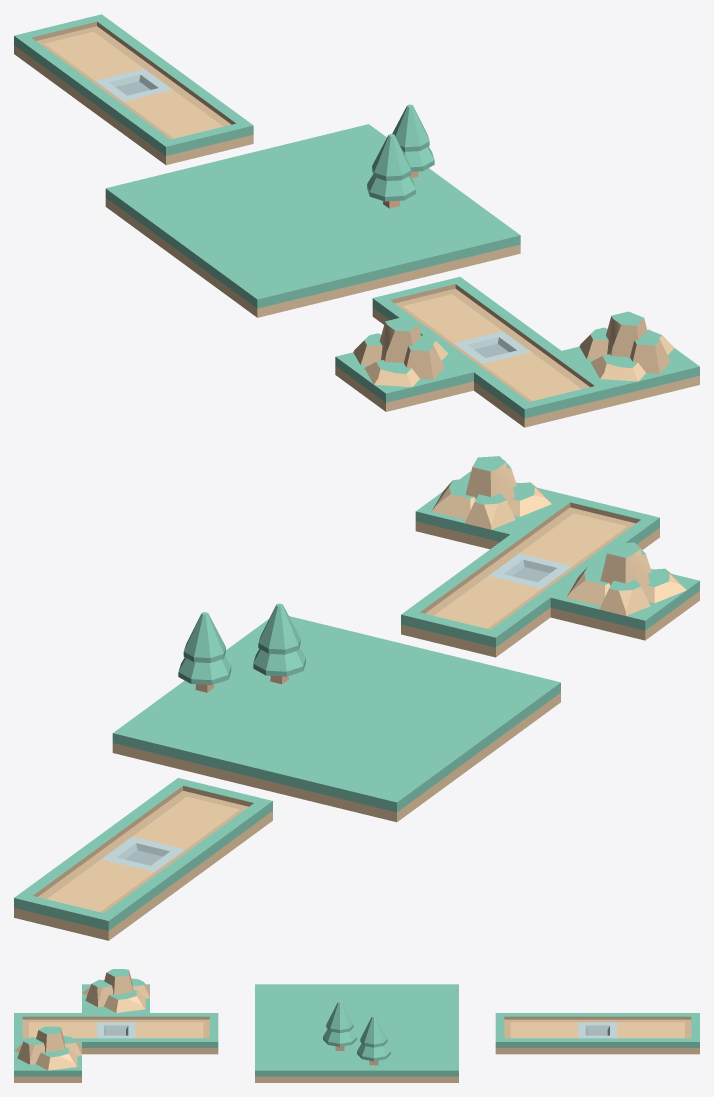
File: level01_geo.glb
The picture shows the model from 3 angles, top to bottom: view 1: azimuth 30°, elevation 25°; view 2: azimuth 150°, elevation 25°; view 3: azimuth 270°, elevation 25°; orthographic projection. The views are drawn at different scales.
Parts seen in each view (by area): view 1: LevelComplete; view 2: LevelComplete; view 3: LevelComplete.
Part boxes in pixels (x1,y1,x2,y2): LevelComplete: [14, 14, 699, 427]; LevelComplete: [14, 456, 699, 940]; LevelComplete: [14, 969, 699, 1082].
Size of the model in its own units: 12.99 by 4.16 by 43.65.
